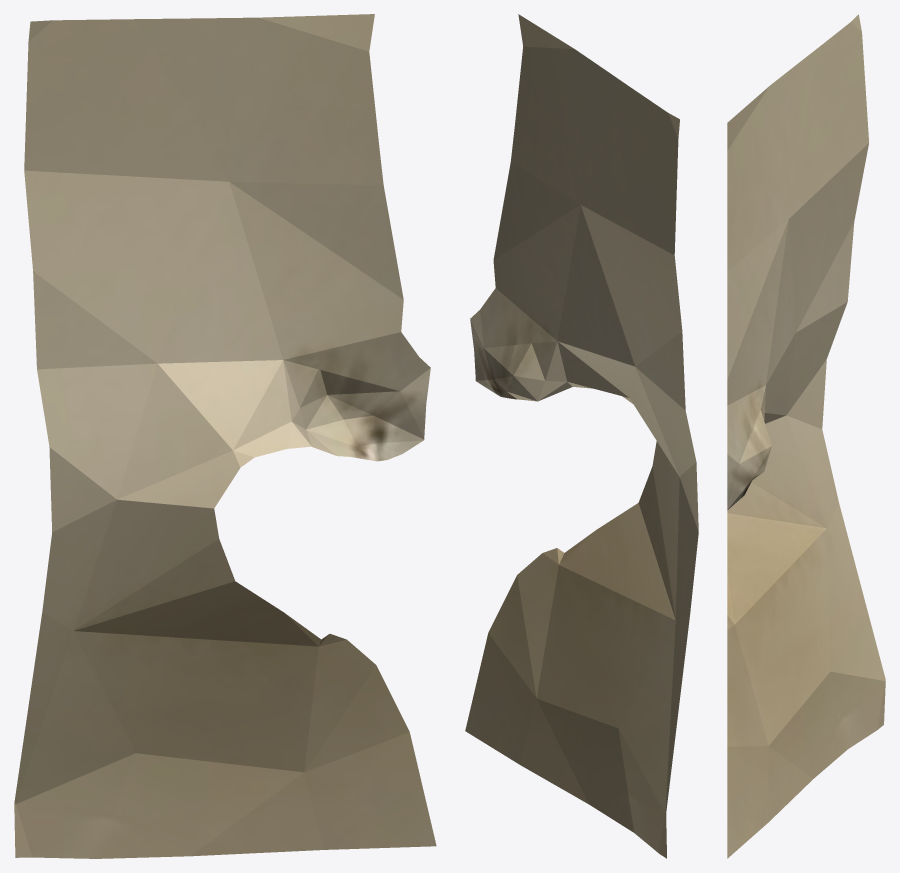
3 views of the same model, side by side, from view 1: azimuth 30°, elevation 25°; view 2: azimuth 150°, elevation 25°; view 3: azimuth 270°, elevation 25° (orthographic). The views are drawn at different scales.
Size of the model in its own units: 0.339 by 0.8374 by 0.1692.
Materials: 1 (1 with a texture image).
